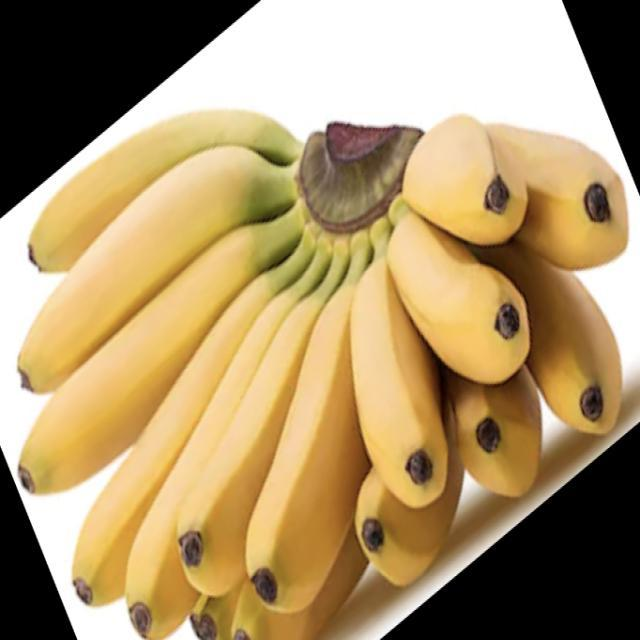Banana: (15, 109, 628, 639)
